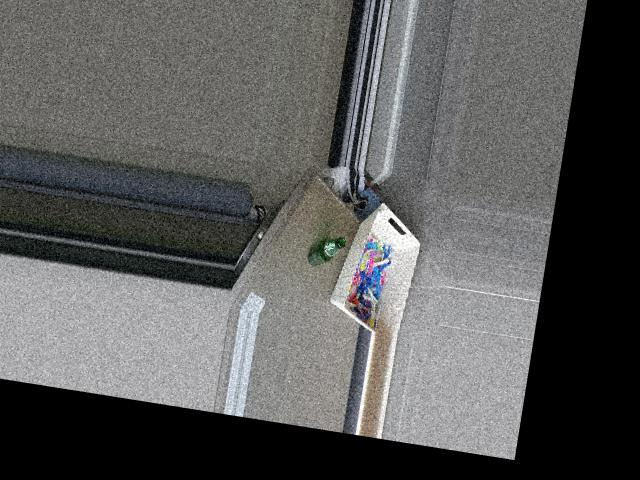beer: (305, 231, 345, 268)
